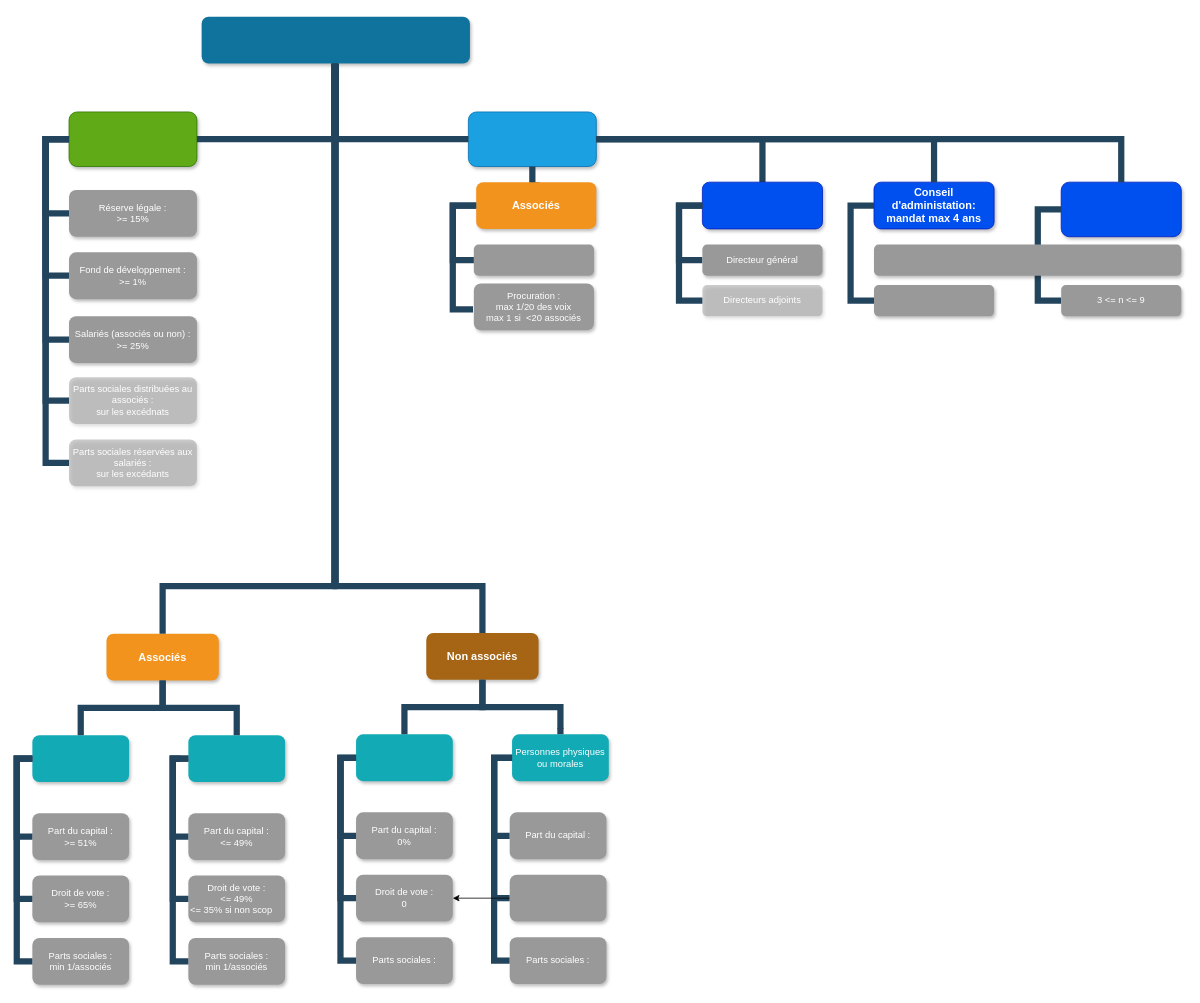
This 1200x1003 diagram has some shape labels left out. The shapes that lost their labels are listed below. From the top down, each one's centre as x and y in pixels, then its label:
At (x=336, y=41): "ft_scop hypothèse : SAS".
At (x=133, y=140): "Répartition des bénęfices :".
At (x=532, y=140): "Assemblée générale 1 / an".
At (x=762, y=206): "Direction : mandat max 4 ans".
At (x=1121, y=210): "Conseil de surveillance Si associés > 20 : mandat max 4 ans".
At (x=534, y=261): "1 associé = 1 voix".
At (x=1028, y=261): "Remboursement des frais + indemnités compensatrices".
At (x=934, y=301): "Gérant".
At (x=81, y=759): "Employés : >= 2".
At (x=237, y=759): "Non employés : - personnes physiques - personne morale".
At (x=405, y=758): "Employés".
At (x=558, y=899): "Droit de vote :".
